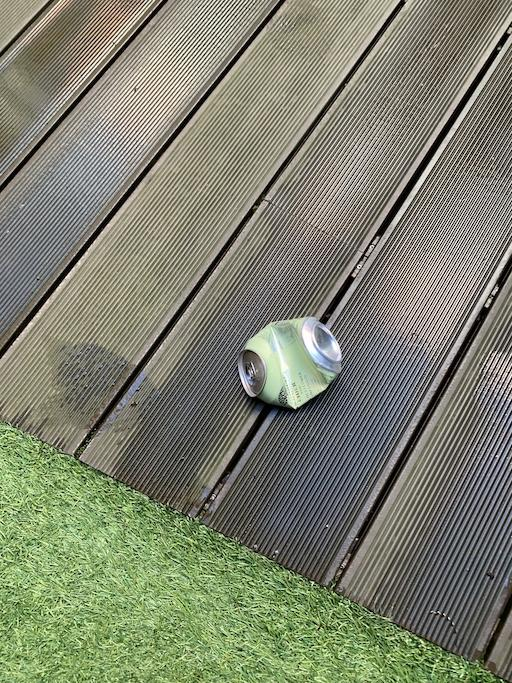Aluminum can: (226, 311, 349, 407)
